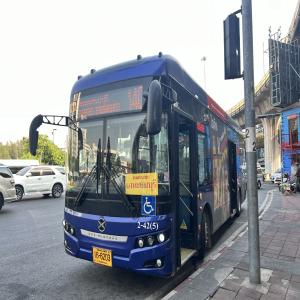Bus Line Number: (126, 82, 144, 111)
Bus Side Number: (136, 218, 160, 231)
Destination Sign: (76, 90, 123, 115), (126, 173, 158, 195)
TSB-Bus: (62, 53, 244, 279)
